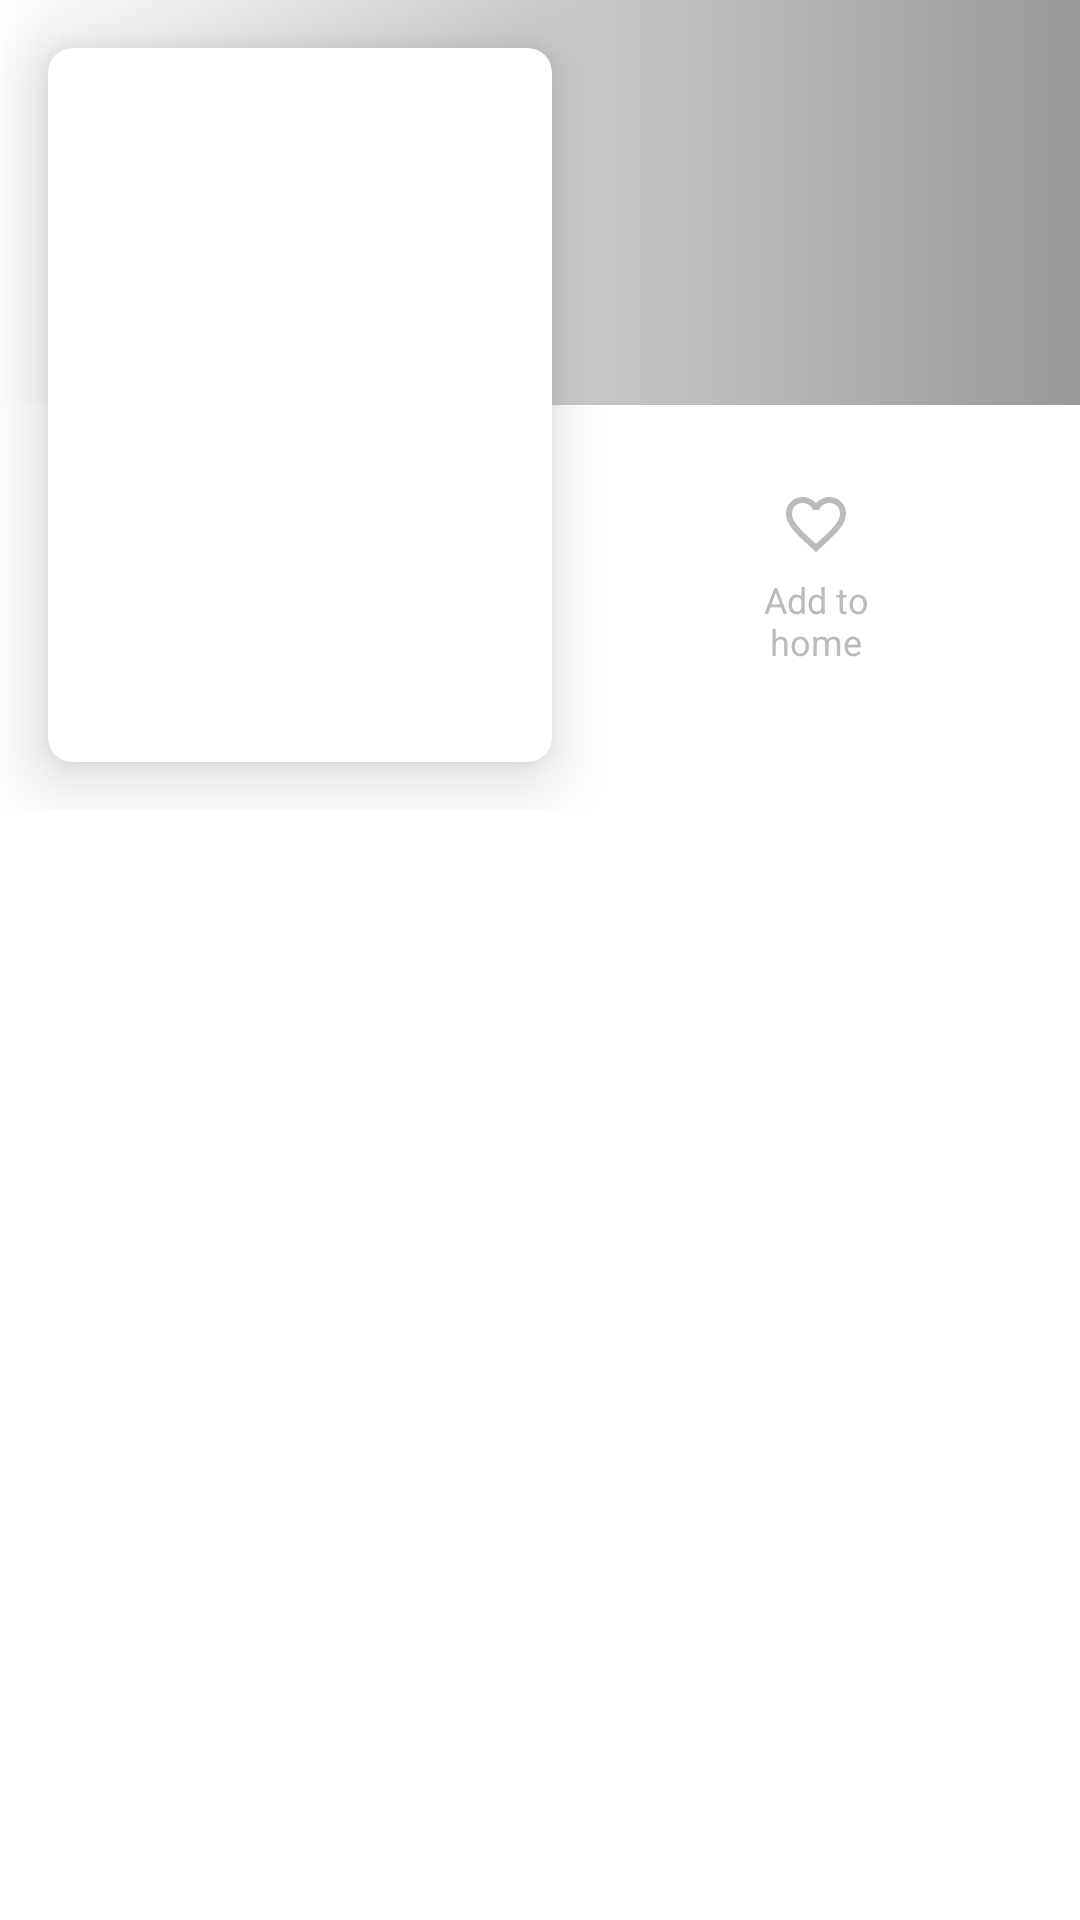

Where to tap for icons on this 1080x1920 app screen, as (x=x, y=y):
favorite border: (x=816, y=524)
